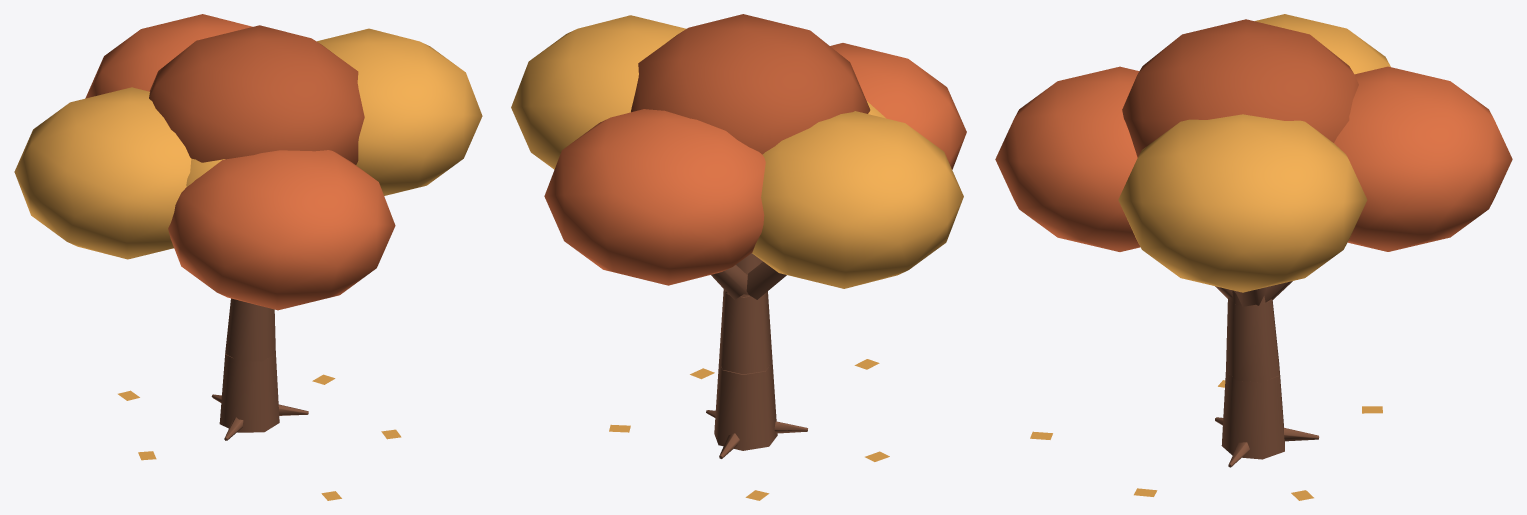
File: autumn-maple.glb
The picture shows the model from 3 angles, left to right: view 1: azimuth 30°, elevation 25°; view 2: azimuth 150°, elevation 25°; view 3: azimuth 270°, elevation 25°; orthographic projection. The views are drawn at different scales.
Visible parts, largest first — view 1: Merged_foliage-light, Merged_foliage, Merged_foliage-deep, Merged_bark, Merged_maple-litter; view 2: Merged_foliage-light, Merged_foliage, Merged_foliage-deep, Merged_bark, Merged_maple-litter; view 3: Merged_foliage, Merged_foliage-light, Merged_foliage-deep, Merged_bark, Merged_maple-litter.
Part boxes in pixels (x1,y1,x2,y2): Merged_foliage-light: (14, 28, 482, 259); Merged_foliage: (85, 14, 395, 310); Merged_foliage-deep: (149, 25, 364, 164); Merged_bark: (211, 298, 308, 440); Merged_maple-litter: (118, 374, 401, 500); Merged_foliage-light: (511, 15, 963, 288); Merged_foliage: (544, 43, 966, 285); Merged_foliage-deep: (631, 14, 870, 154); Merged_bark: (706, 253, 807, 458); Merged_maple-litter: (609, 359, 889, 500); Merged_foliage: (995, 66, 1512, 251); Merged_foliage-light: (1118, 14, 1390, 292); Merged_foliage-deep: (1122, 19, 1358, 157); Merged_bark: (1215, 281, 1319, 467); Merged_maple-litter: (1030, 380, 1382, 500).
Size of what is drawn, in the model's own units: 4.99 by 4.37 by 4.96.
